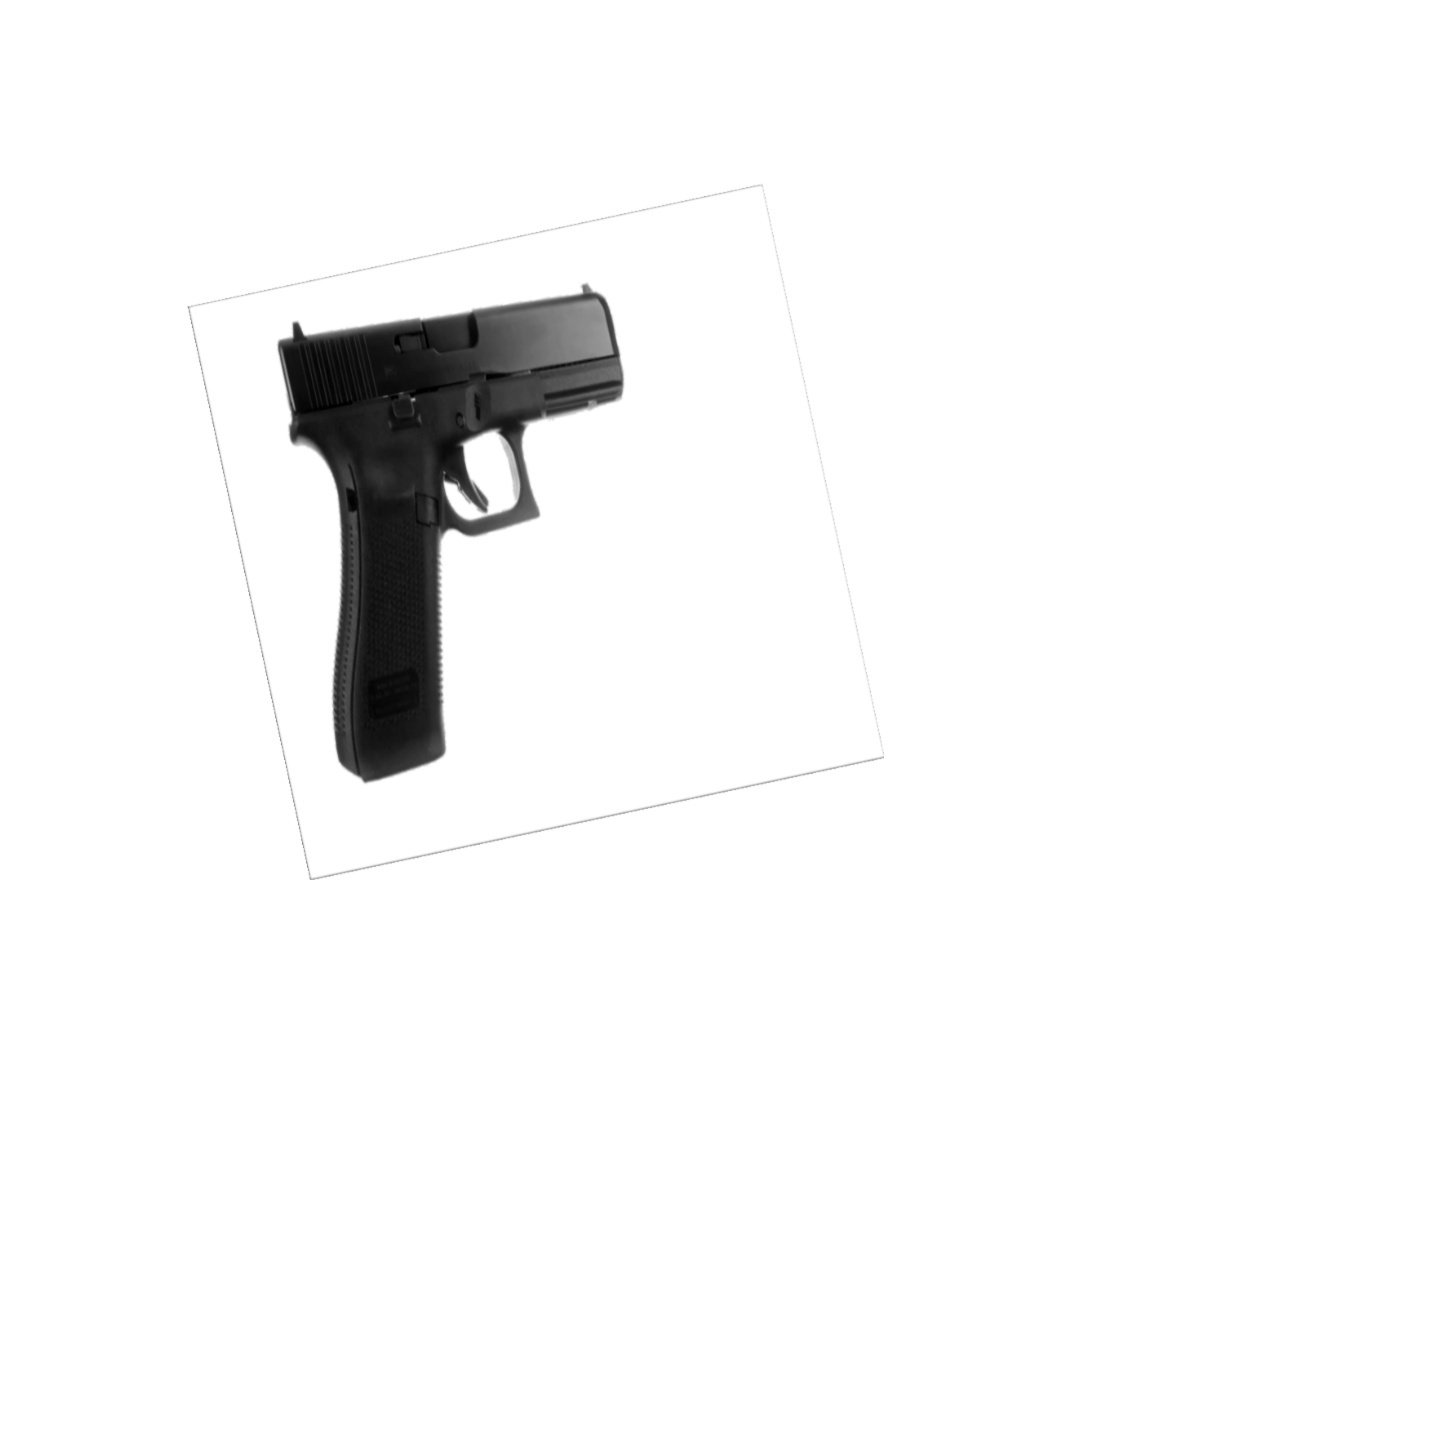gun: (274, 284, 629, 786)
